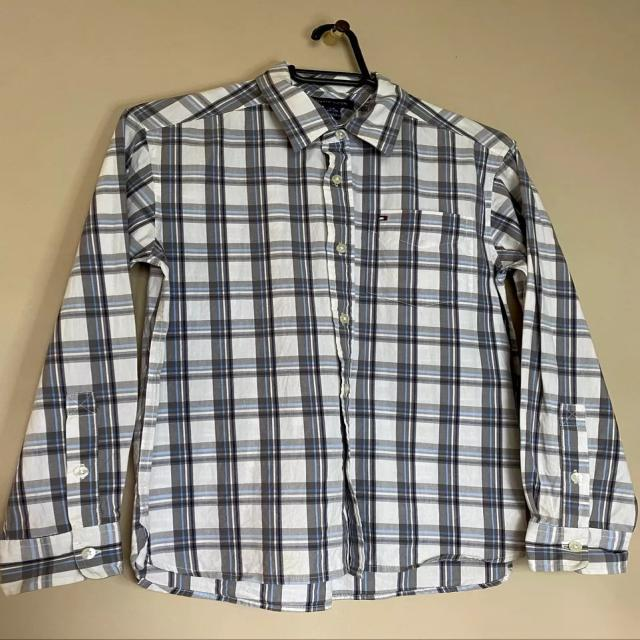long sleeve shirt: (0, 62, 638, 615)
